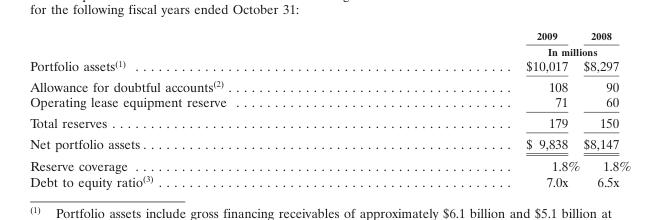table: (29, 29, 630, 189)
table column: (29, 29, 375, 189), (375, 29, 581, 189), (581, 29, 630, 189)
table column header: (29, 29, 630, 57)
table row: (29, 132, 630, 154), (29, 112, 630, 132), (29, 75, 630, 94), (29, 154, 630, 173), (29, 57, 630, 75), (29, 94, 630, 112), (29, 173, 630, 189), (29, 29, 630, 43), (29, 43, 630, 57)
table spanning cell: (375, 43, 630, 57)
